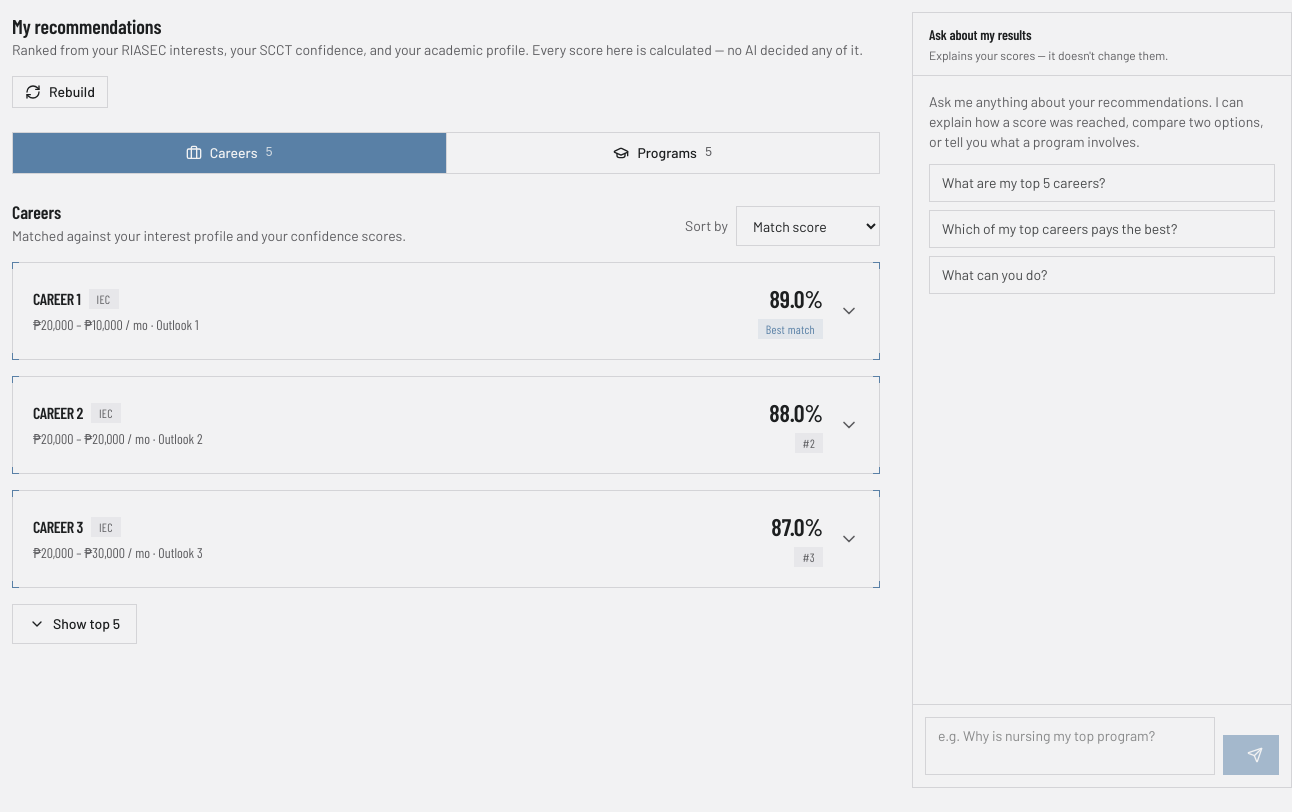
Test: RecommendationPage › re-orders the shortlist by salary without changing which careers are in it
Expected: the text "Career 1" is shown, [33, 289, 80, 308]
Select "Highest salary" in the dropdown labelled "Sort by" at [808, 226], box [736, 206, 880, 246]
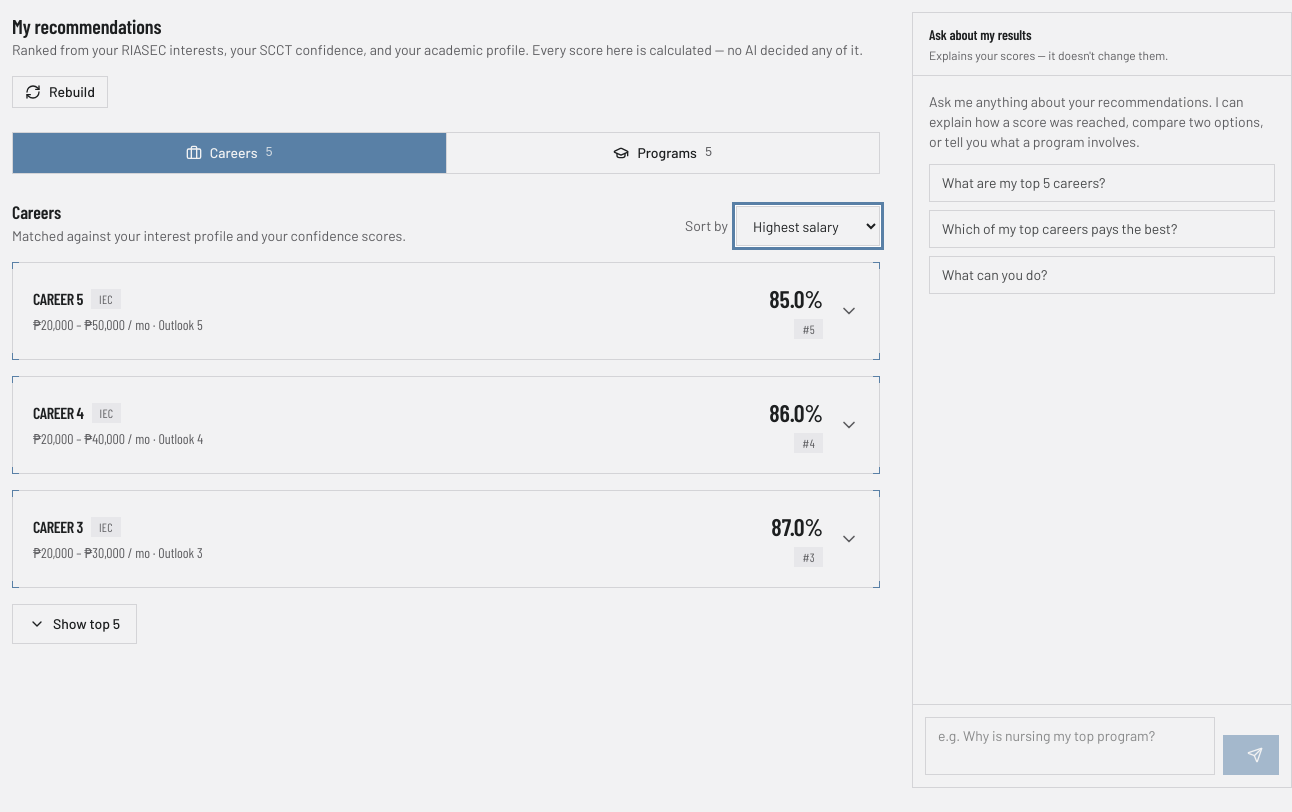
Expected: the text "Career 5" is shown, [33, 289, 83, 308]
